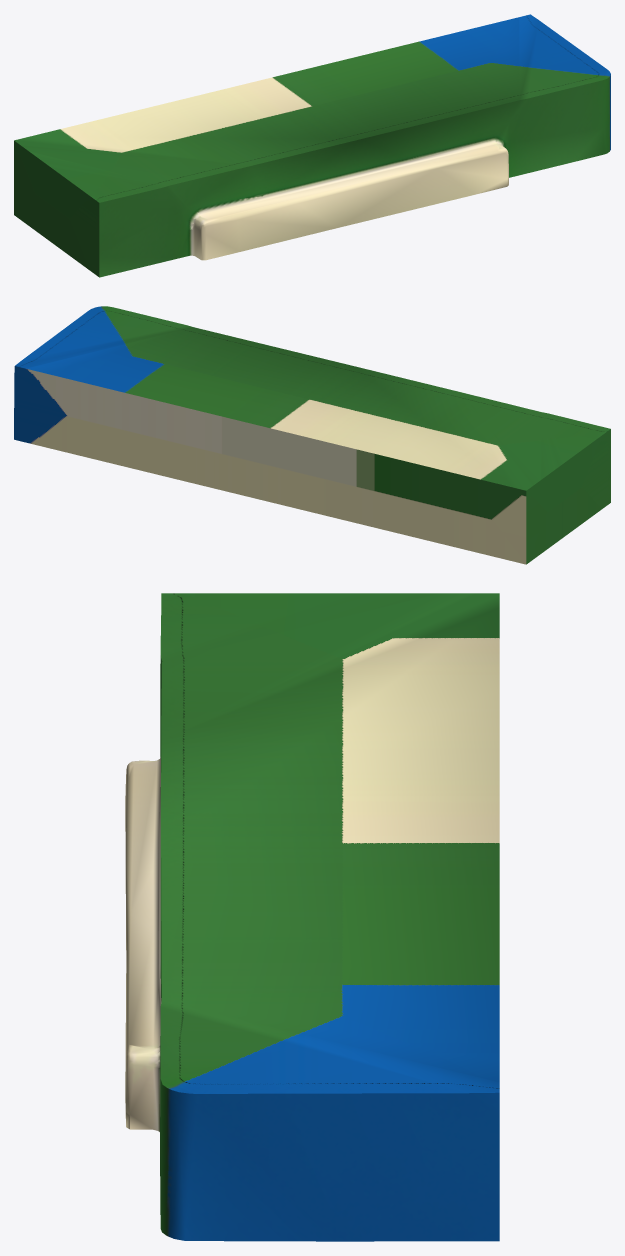
Rendered from 10-roof-front-right.fbx.
3 views of the same model, one above another, from view 1: azimuth 30°, elevation 25°; view 2: azimuth 150°, elevation 25°; view 3: azimuth 270°, elevation 25° (orthographic). The views are drawn at different scales.
Parts seen in each view (by area): view 1: roof-front-right; view 2: roof-front-right; view 3: roof-front-right.
Boxes of the visible parts, x1=… form: roof-front-right: x1=14, y1=14, x2=610, y2=277; roof-front-right: x1=14, y1=306, x2=610, y2=564; roof-front-right: x1=125, y1=593, x2=499, y2=1241.
Bounding box in the file's own units: 5291 × 729 × 1672.
Materials: 1 (1 with a texture image).
